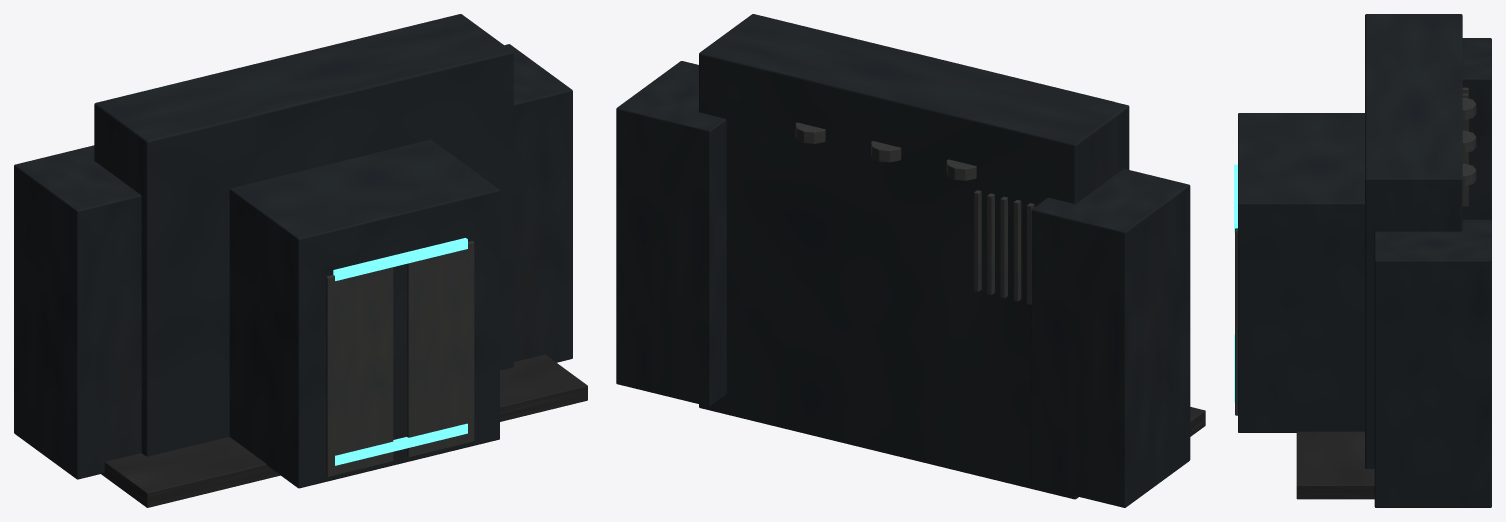
The model's file is airlock_assembly_v3.glb.
The picture shows the model from 3 angles, left to right: view 1: azimuth 30°, elevation 25°; view 2: azimuth 150°, elevation 25°; view 3: azimuth 270°, elevation 25°; orthographic projection. The views are drawn at different scales.
Visible parts, largest first — view 1: Facade, Throat, Armor_-5.5, Armor_5.5, DoorL, DoorR, Skirt, BarTop, BarBot; view 2: Facade, Armor_-5.5, Armor_5.5, Fin_2, Fin_3, Fin_4, Fin_5; view 3: Throat, Armor_5.5, Facade, Skirt, Armor_-5.5, DoorR, Fin_5, Vent_2, Vent_0, Vent_1.
Part boxes in pixels (box(x1,y1,x2,y2)): Facade: box(94, 14, 513, 456); Throat: box(229, 139, 499, 488); Armor_-5.5: box(14, 145, 141, 479); Armor_5.5: box(504, 44, 572, 362); DoorL: box(326, 267, 393, 477); DoorR: box(407, 241, 474, 457); Skirt: box(101, 354, 587, 507); BarTop: box(333, 238, 467, 280); BarBot: box(335, 423, 467, 465); Facade: box(699, 14, 1129, 499); Armor_-5.5: box(1031, 168, 1190, 507); Armor_5.5: box(616, 61, 726, 406); Fin_2: box(1013, 200, 1021, 301); Fin_3: box(1000, 196, 1007, 298); Fin_4: box(987, 193, 994, 295); Fin_5: box(974, 190, 981, 291); Throat: box(1238, 113, 1364, 432); Armor_5.5: box(1374, 219, 1491, 507); Facade: box(1365, 14, 1462, 468); Skirt: box(1296, 431, 1374, 499); Armor_-5.5: box(1462, 38, 1491, 220); DoorR: box(1235, 228, 1237, 415); Fin_5: box(1462, 119, 1468, 206); Vent_2: box(1462, 163, 1476, 186); Vent_0: box(1462, 97, 1476, 120); Vent_1: box(1462, 130, 1476, 153).
Bounding box in the file's own units: 13.5 × 9 × 6.6.
4 materials, 4 textured.
